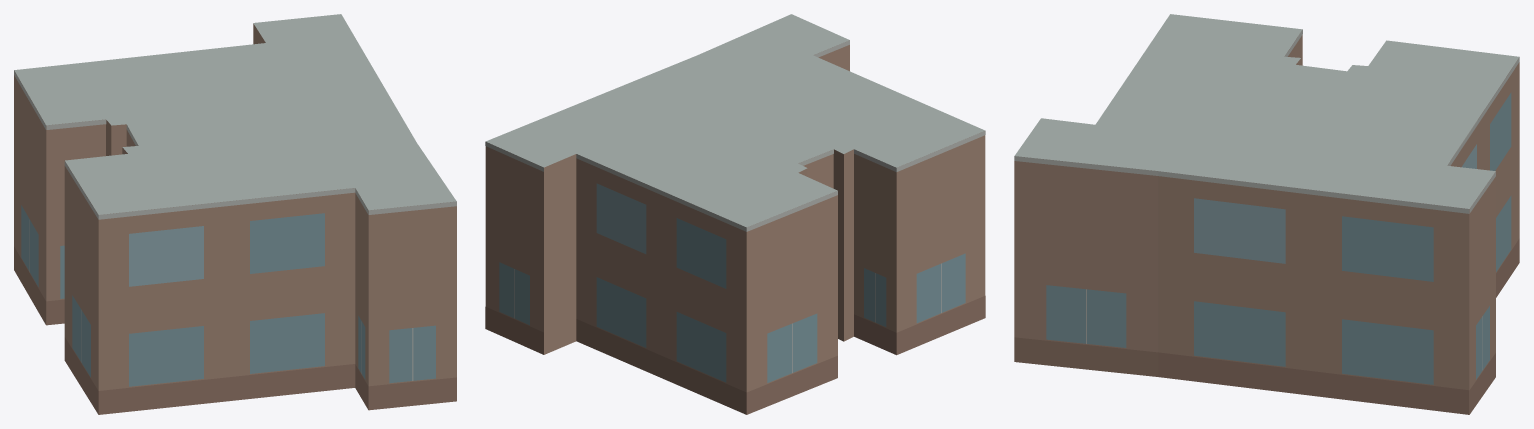
File: survey-upis-32466448.glb
3 renders of one model, left to right at view 1: azimuth 30°, elevation 25°; view 2: azimuth 150°, elevation 25°; view 3: azimuth 270°, elevation 25°, orthographic. The views are drawn at different scales.
Visible parts, largest first — view 1: survey-upis-32466448.tmp; view 2: survey-upis-32466448.tmp; view 3: survey-upis-32466448.tmp.
Boxes of the visible parts, x1,y1,x2,y2 form: survey-upis-32466448.tmp: (14, 14, 456, 414); survey-upis-32466448.tmp: (485, 14, 985, 414); survey-upis-32466448.tmp: (1014, 14, 1519, 414).
Bounding box in the file's own units: 20.73 × 10.2 × 22.69.
